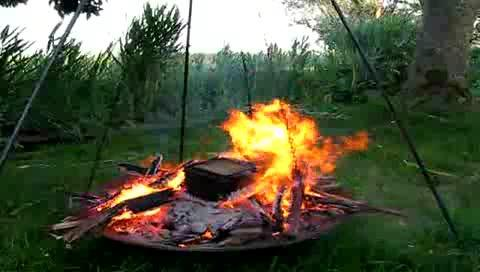fire: (216, 96, 341, 207)
